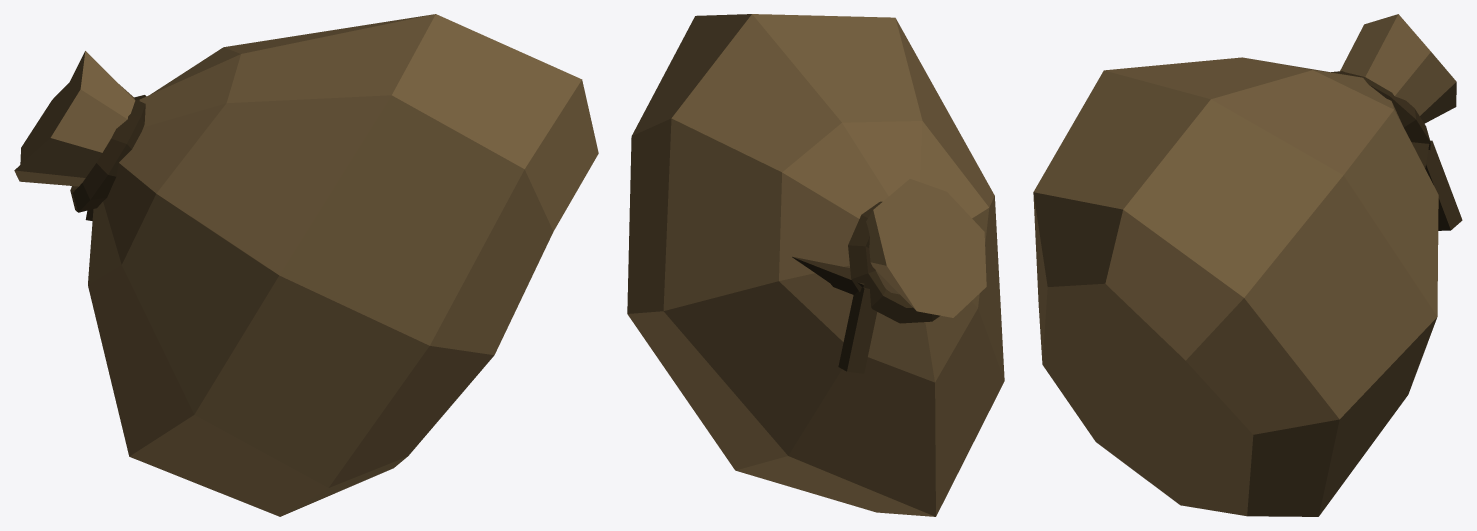
Rendered from side_treasure_hollow_special.fbx.
The picture shows the model from 3 angles, left to right: view 1: azimuth 30°, elevation 25°; view 2: azimuth 150°, elevation 25°; view 3: azimuth 270°, elevation 25°; orthographic projection. The views are drawn at different scales.
Parts seen in each view (by area): view 1: chunk_side_treasure_hollow__landmark_chest_loot; view 2: chunk_side_treasure_hollow__landmark_chest_loot; view 3: chunk_side_treasure_hollow__landmark_chest_loot.
Boxes of the visible parts, x1,y1,x2,y2 form: chunk_side_treasure_hollow__landmark_chest_loot: (14,14,598,516); chunk_side_treasure_hollow__landmark_chest_loot: (627,14,1004,516); chunk_side_treasure_hollow__landmark_chest_loot: (1033,14,1462,516).
Size of the model in its own units: 2.4 by 2.42 by 1.95.
